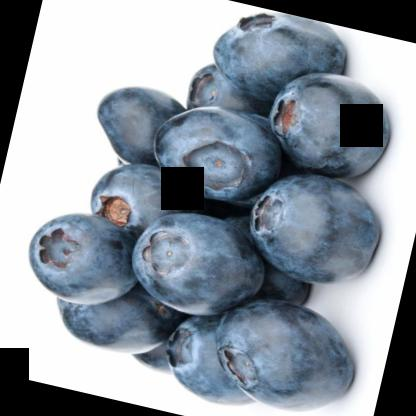blueberry: (202, 286, 368, 415), (124, 197, 282, 325), (243, 162, 392, 297), (259, 60, 403, 188), (144, 95, 293, 212), (205, 0, 352, 116), (19, 202, 152, 316), (162, 309, 270, 411), (84, 154, 194, 248), (92, 79, 190, 173)
